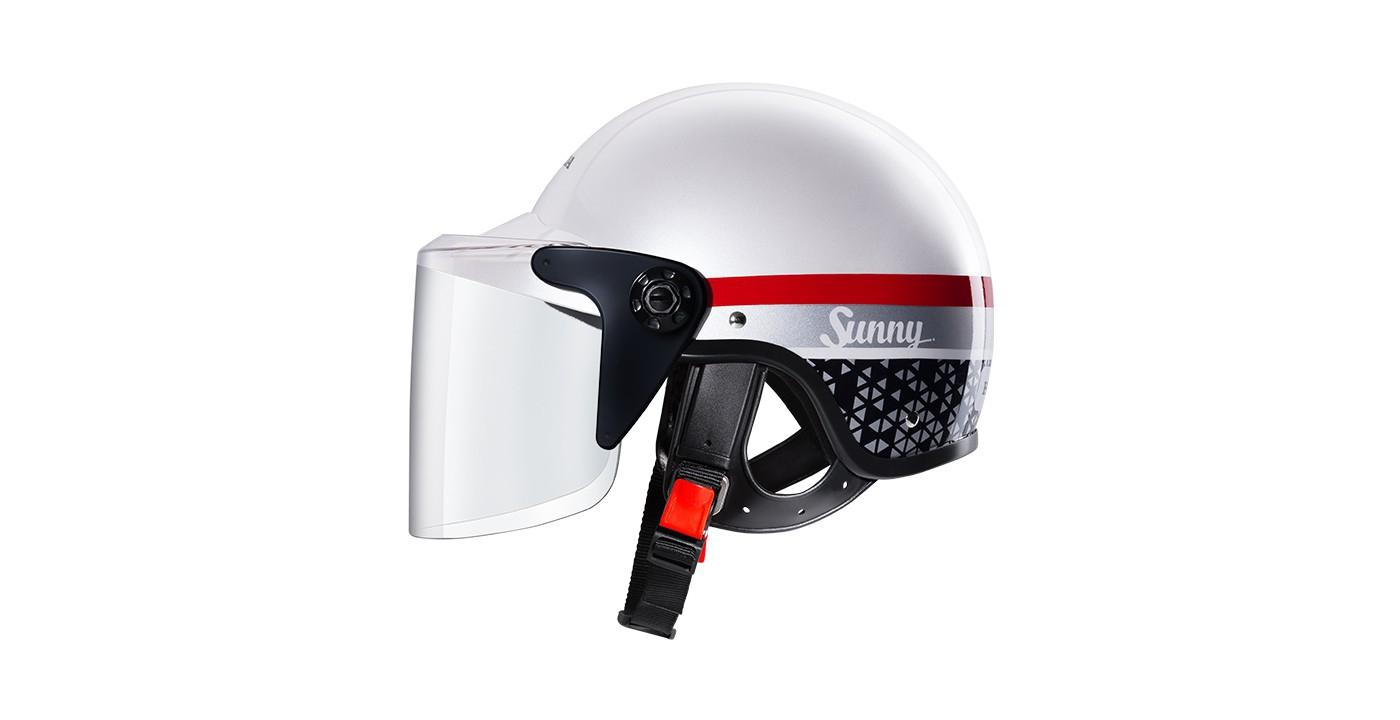helmet: (350, 72, 1077, 647)
